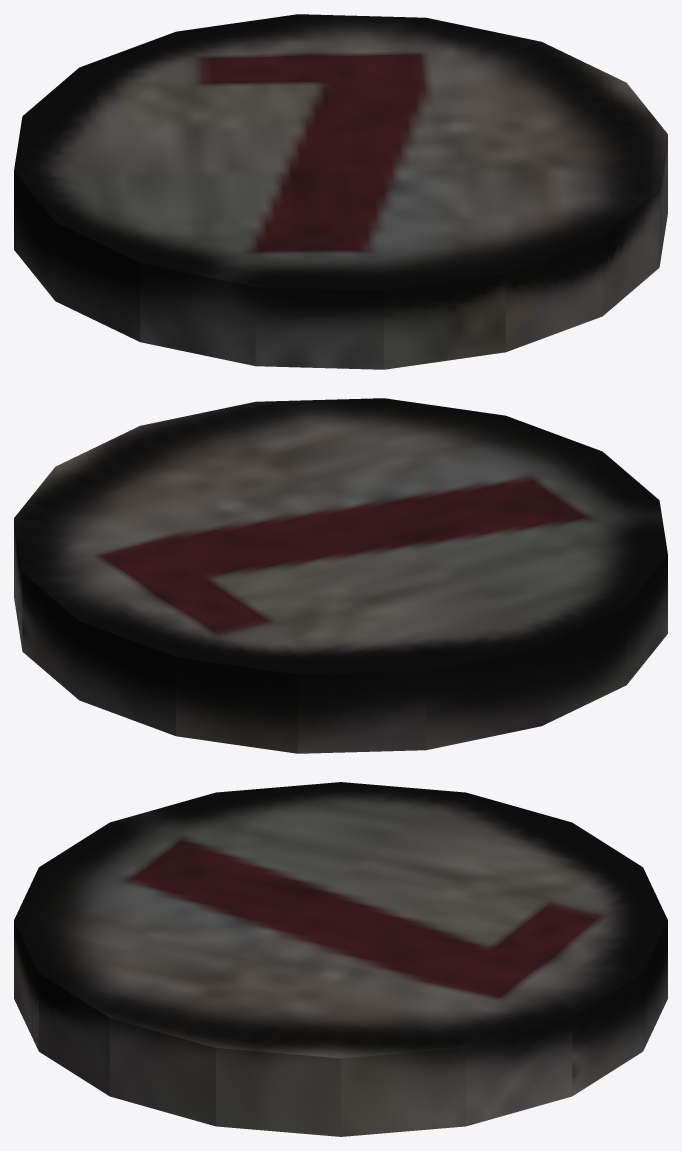
The model's file is button_7.fbx.
3 renders of one model, top to bottom at view 1: azimuth 30°, elevation 25°; view 2: azimuth 150°, elevation 25°; view 3: azimuth 270°, elevation 25°, orthographic.
Parts seen in each view (by area): view 1: Circle.005; view 2: Circle.005; view 3: Circle.005.
Boxes of the visible parts, x1,y1,x2,y2 form: Circle.005: [14, 14, 667, 369]; Circle.005: [14, 398, 667, 753]; Circle.005: [14, 782, 667, 1136].
Size of the model in its own units: 200 by 26.5 by 200.
Materials: 1 (1 with a texture image).
